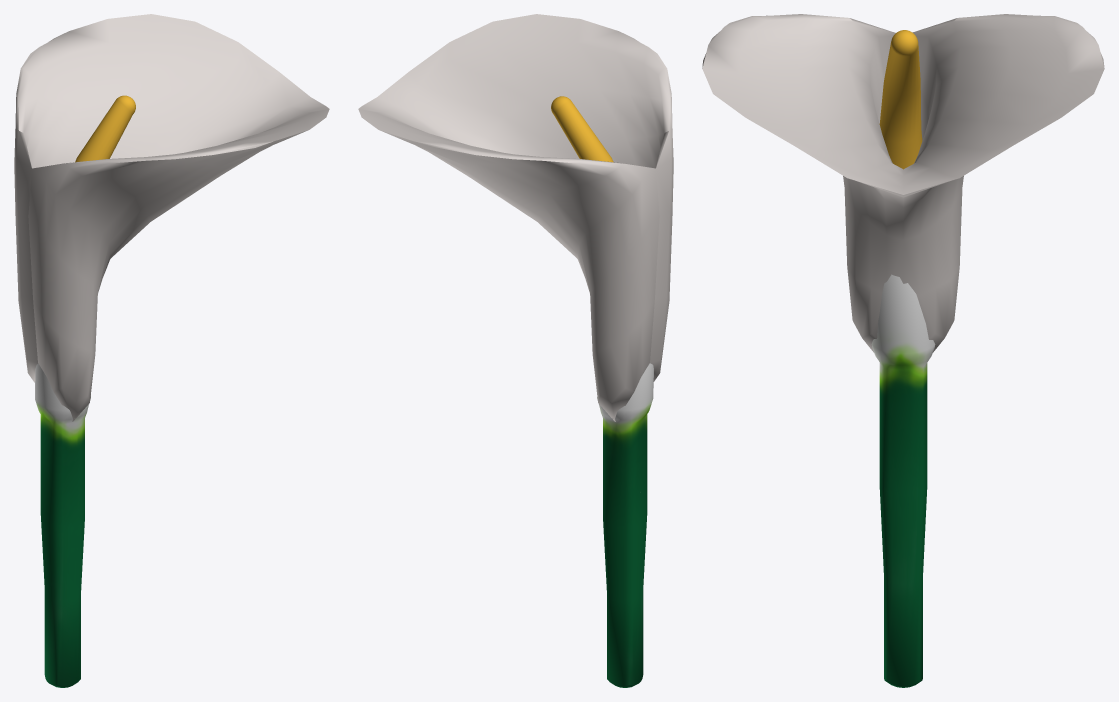
File: Cartucho.fbx
3 views of the same model, side by side, from view 1: azimuth 30°, elevation 25°; view 2: azimuth 150°, elevation 25°; view 3: azimuth 270°, elevation 25° (orthographic). The views are drawn at different scales.
Parts seen in each view (by area): view 1: Cubo; view 2: Cubo; view 3: Cubo.
Boxes of the visible parts, left/top/right/bottom form: Cubo: left=14, top=14, right=329, bottom=687; Cubo: left=358, top=14, right=673, bottom=687; Cubo: left=702, top=14, right=1104, bottom=687.
Size of the model in its own units: 1454 by 2825 by 1489.
